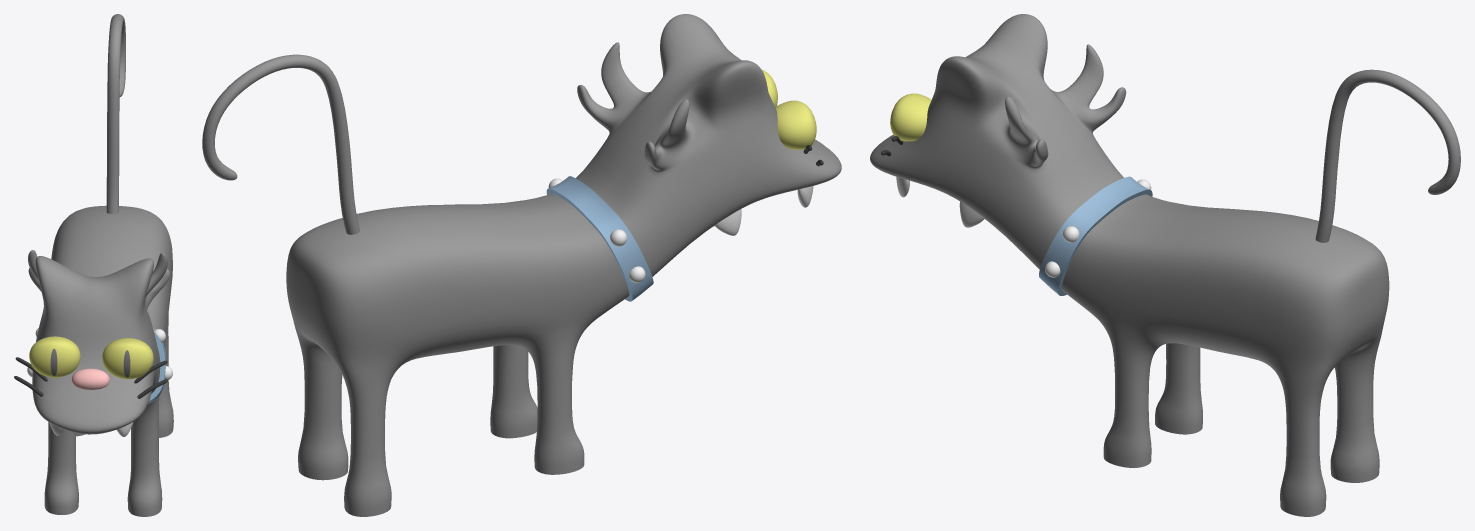
The picture shows the model from 3 angles, left to right: view 1: azimuth 30°, elevation 25°; view 2: azimuth 150°, elevation 25°; view 3: azimuth 270°, elevation 25°; orthographic projection. The views are drawn at different scales.
Visible parts, largest first — view 1: 017_Simpsons_Snowball; view 2: 017_Simpsons_Snowball; view 3: 017_Simpsons_Snowball.
Part boxes in pixels (x1,y1,x2,y2): 017_Simpsons_Snowball: (14, 14, 173, 516); 017_Simpsons_Snowball: (202, 14, 841, 516); 017_Simpsons_Snowball: (870, 14, 1460, 516).
Size of the model in its own units: 0.0374 by 0.0425 by 0.0525.
